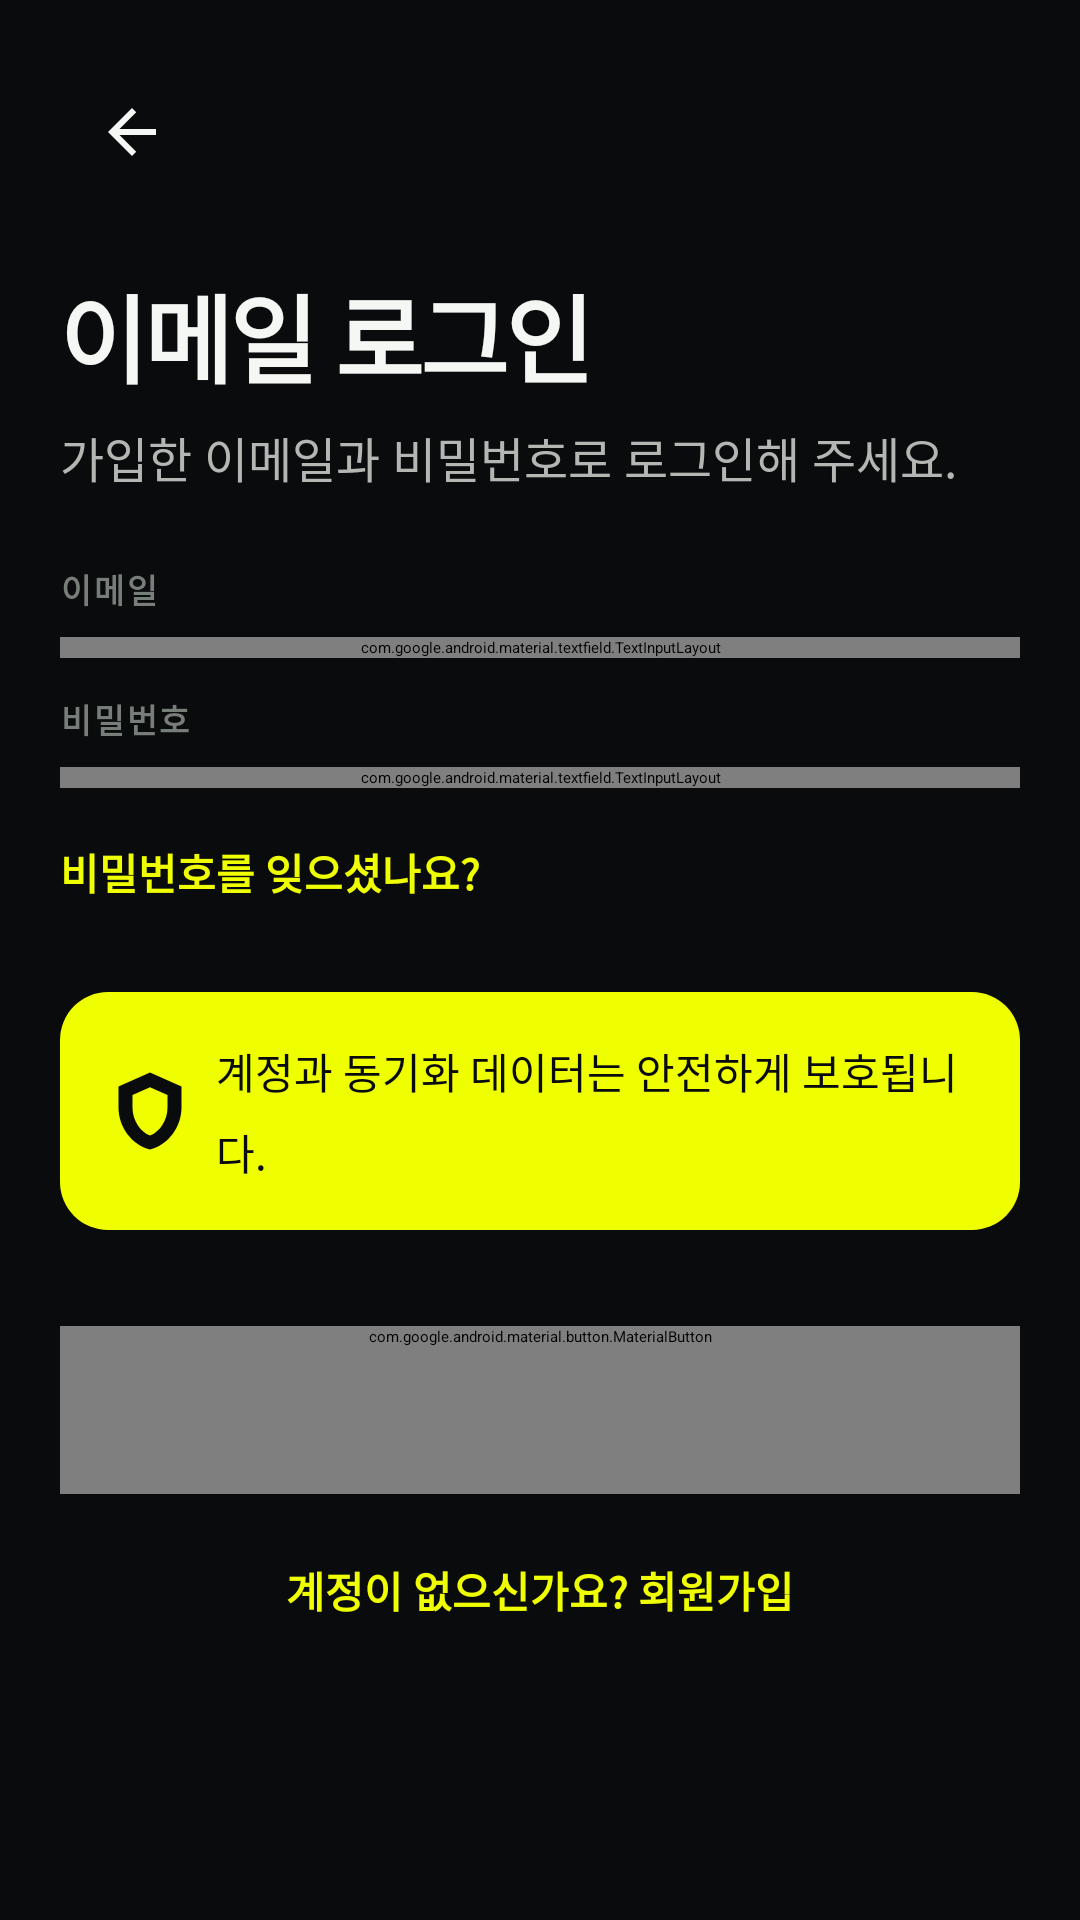

Icon bounding boxes for this 1080px x 1920px phone screenshot, format (x1, y1, x2, y2):
뒤로가기: (108, 108, 156, 156)
안전한 로그인: (118, 1072, 182, 1150)
